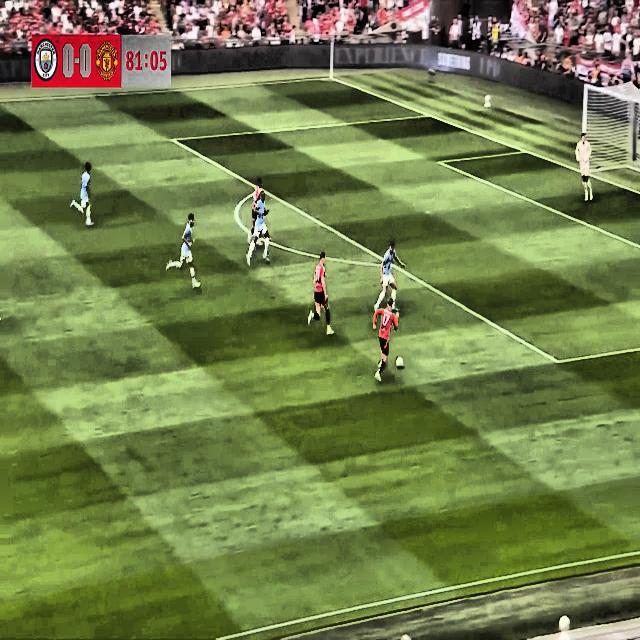ball: (393, 346, 409, 380)
goal_keeper: (574, 127, 602, 203)
players: (299, 244, 339, 346), (164, 205, 204, 297), (376, 234, 409, 332), (370, 290, 404, 385), (69, 152, 100, 232), (246, 188, 273, 272), (249, 166, 272, 252)
